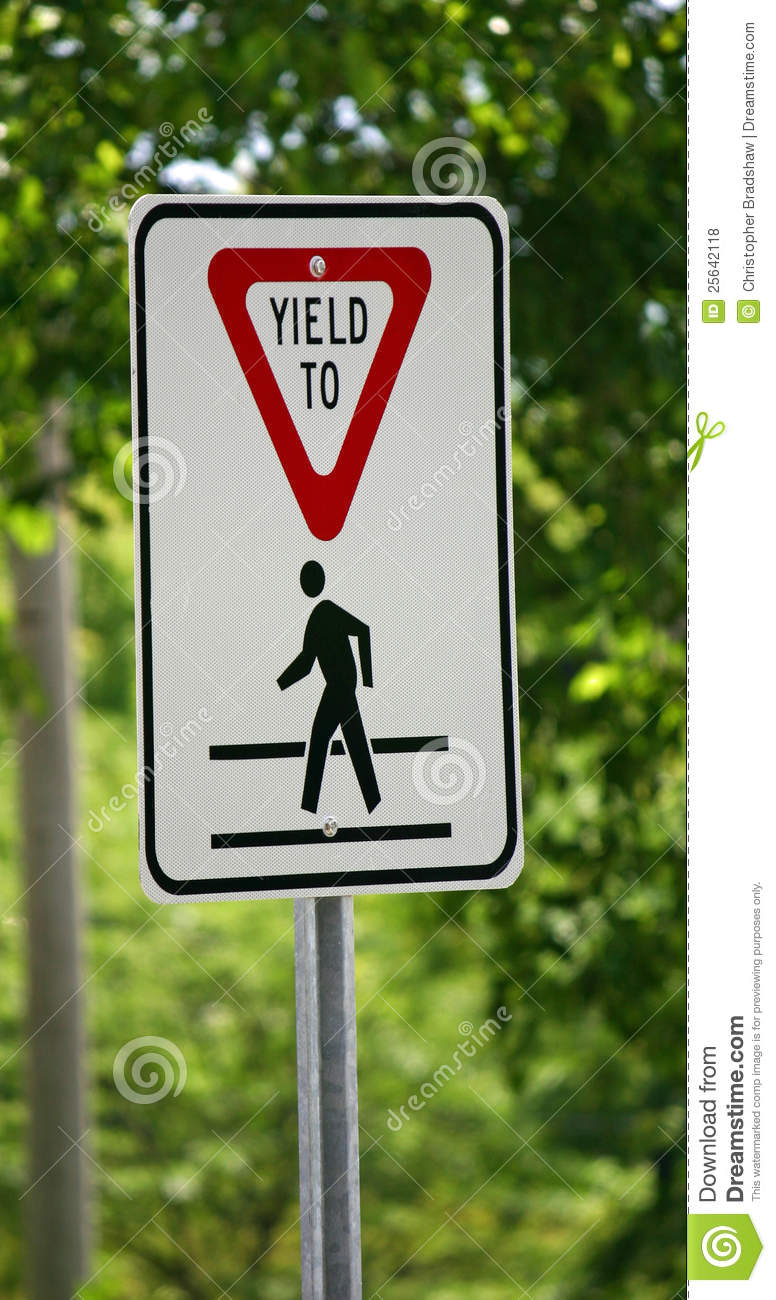yield_sign: (130, 186, 524, 889)
